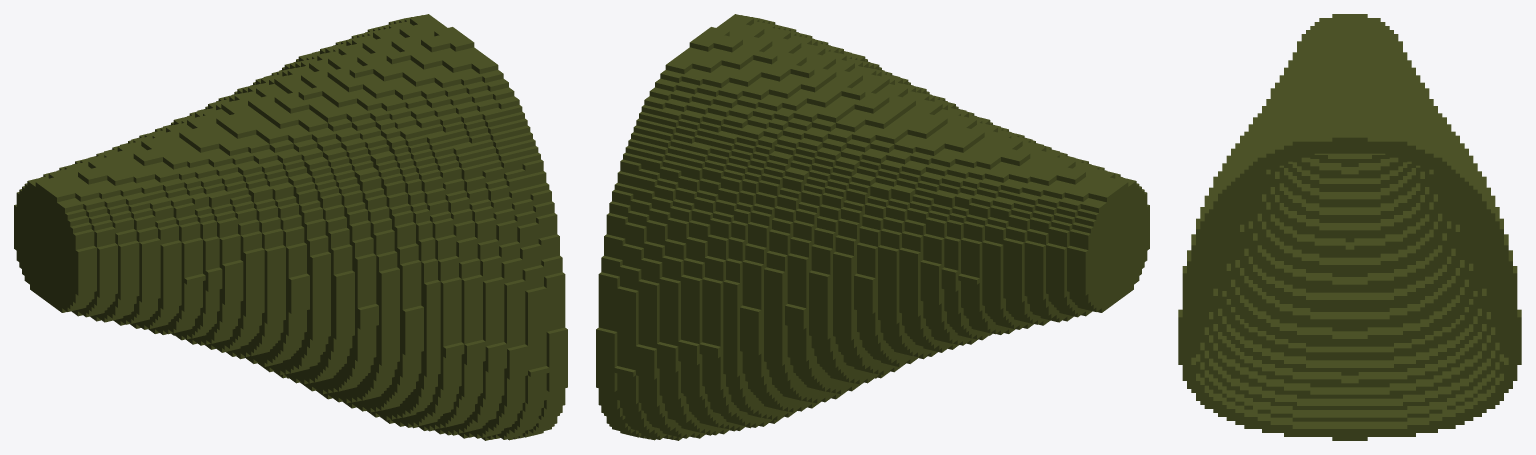
File: military_transport_helicopter_tail_cone.glb
3 views of the same model, side by side, from view 1: azimuth 30°, elevation 25°; view 2: azimuth 150°, elevation 25°; view 3: azimuth 270°, elevation 25° (orthographic). The views are drawn at different scales.
Visible parts, largest first — view 1: body:compound; view 2: body:compound; view 3: body:compound.
Part boxes in pixels (left/top/right/bottom): body:compound: left=14, top=14, right=567, bottom=440; body:compound: left=596, top=14, right=1149, bottom=440; body:compound: left=1178, top=14, right=1521, bottom=440.
Bounding box in the file's own units: 2.81 × 2.38 × 2.44.
